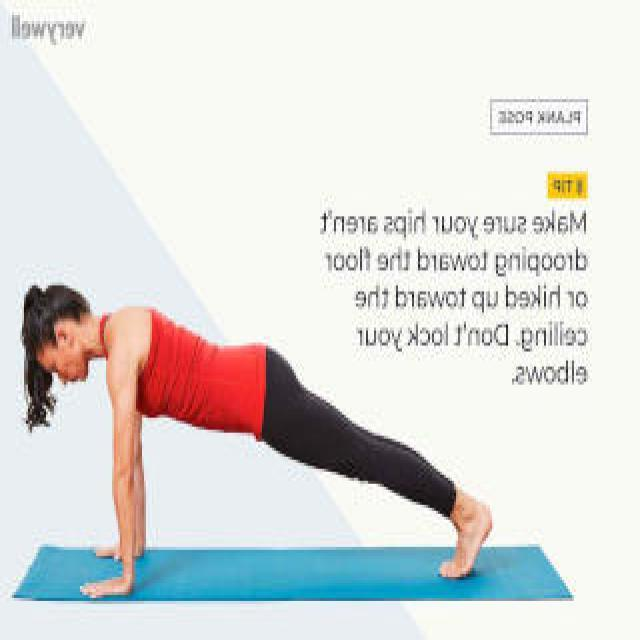yoga-pose plank: (14, 308, 488, 606)
